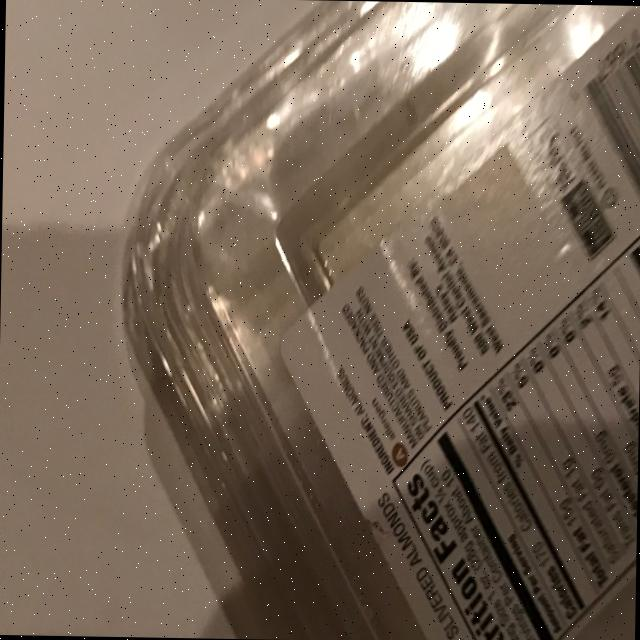plastic: (111, 0, 640, 640)
